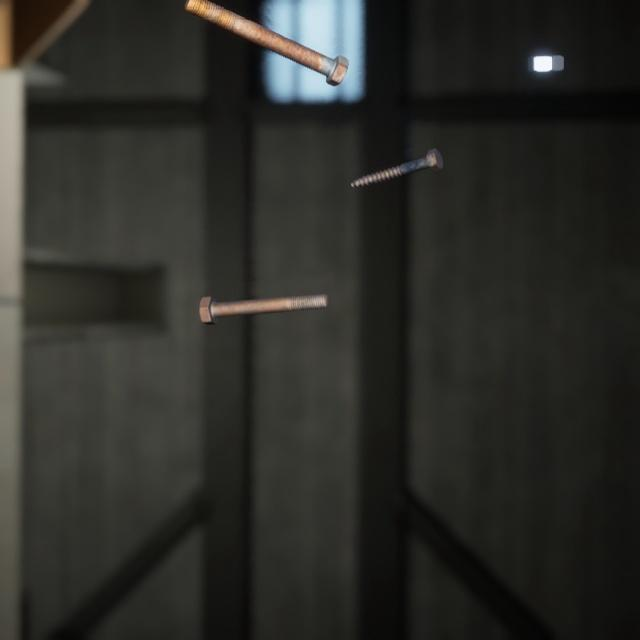bolt: (180, 0, 353, 81), (194, 271, 334, 311), (346, 130, 447, 178)
